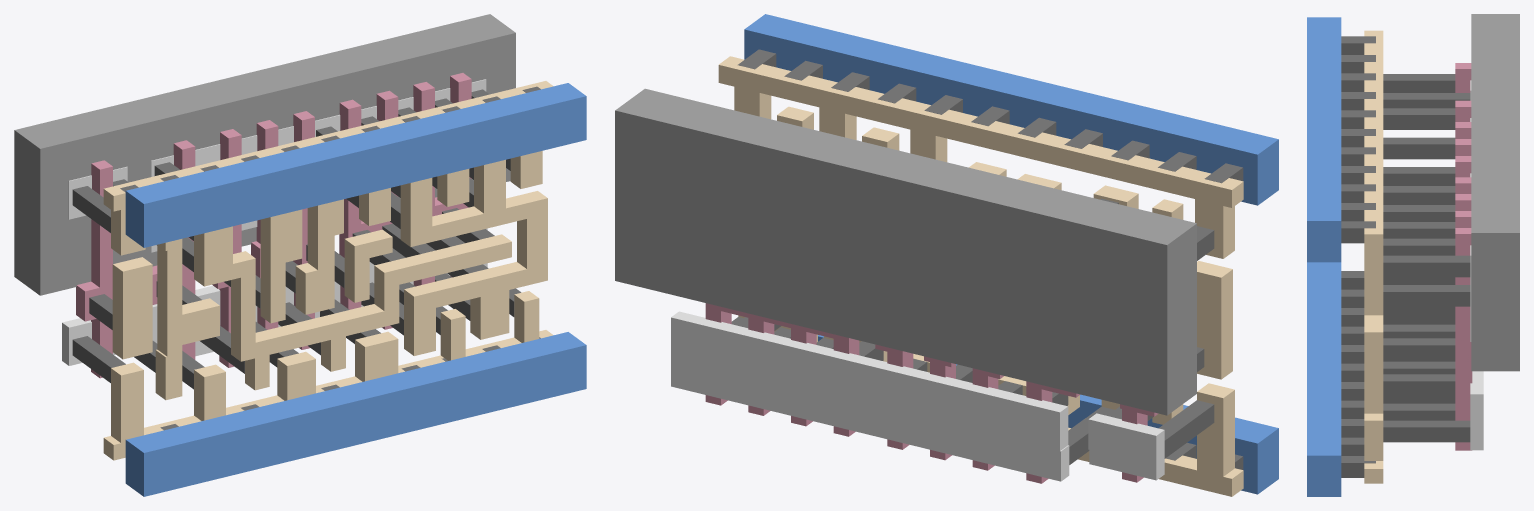
Rendered from sky130_fd_sc_hd__or4b_4.gds.gltf.
3 renders of one model, left to right at view 1: azimuth 30°, elevation 25°; view 2: azimuth 150°, elevation 25°; view 3: azimuth 270°, elevation 25°, orthographic. The views are drawn at different scales.
Parts seen in each view (by area): view 1: sky130_fd_sc_hd__or4b_4_li1, sky130_fd_sc_hd__or4b_4_met1, sky130_fd_sc_hd__or4b_4_nwell, sky130_fd_sc_hd__or4b_4_poly, sky130_fd_sc_hd__or4b_4_licon, sky130_fd_sc_hd__or4b_4_diff, sky130_fd_sc_hd__or4b_4_mcon; view 2: sky130_fd_sc_hd__or4b_4_nwell, sky130_fd_sc_hd__or4b_4_diff, sky130_fd_sc_hd__or4b_4_li1, sky130_fd_sc_hd__or4b_4_met1, sky130_fd_sc_hd__or4b_4_mcon, sky130_fd_sc_hd__or4b_4_poly, sky130_fd_sc_hd__or4b_4_licon; view 3: sky130_fd_sc_hd__or4b_4_licon, sky130_fd_sc_hd__or4b_4_nwell, sky130_fd_sc_hd__or4b_4_met1, sky130_fd_sc_hd__or4b_4_mcon, sky130_fd_sc_hd__or4b_4_li1, sky130_fd_sc_hd__or4b_4_poly, sky130_fd_sc_hd__or4b_4_diff.
Part boxes in pixels (left/top/right/bottom): sky130_fd_sc_hd__or4b_4_li1: left=103, top=81, right=553, bottom=460; sky130_fd_sc_hd__or4b_4_met1: left=125, top=83, right=586, bottom=496; sky130_fd_sc_hd__or4b_4_nwell: left=14, top=14, right=515, bottom=295; sky130_fd_sc_hd__or4b_4_poly: left=76, top=73, right=471, bottom=378; sky130_fd_sc_hd__or4b_4_licon: left=72, top=89, right=521, bottom=389; sky130_fd_sc_hd__or4b_4_diff: left=62, top=79, right=487, bottom=365; sky130_fd_sc_hd__or4b_4_mcon: left=120, top=86, right=540, bottom=430; sky130_fd_sc_hd__or4b_4_nwell: left=615, top=88, right=1196, bottom=415; sky130_fd_sc_hd__or4b_4_diff: left=671, top=311, right=1164, bottom=481; sky130_fd_sc_hd__or4b_4_li1: left=718, top=56, right=1243, bottom=496; sky130_fd_sc_hd__or4b_4_met1: left=744, top=14, right=1278, bottom=494; sky130_fd_sc_hd__or4b_4_mcon: left=738, top=49, right=1243, bottom=469; sky130_fd_sc_hd__or4b_4_poly: left=705, top=303, right=1158, bottom=483; sky130_fd_sc_hd__or4b_4_licon: left=731, top=198, right=1214, bottom=464; sky130_fd_sc_hd__or4b_4_licon: left=1383, top=74, right=1470, bottom=442; sky130_fd_sc_hd__or4b_4_nwell: left=1471, top=14, right=1519, bottom=371; sky130_fd_sc_hd__or4b_4_met1: left=1307, top=17, right=1341, bottom=496; sky130_fd_sc_hd__or4b_4_mcon: left=1341, top=36, right=1375, bottom=477; sky130_fd_sc_hd__or4b_4_li1: left=1364, top=30, right=1383, bottom=483; sky130_fd_sc_hd__or4b_4_poly: left=1455, top=63, right=1472, bottom=450; sky130_fd_sc_hd__or4b_4_diff: left=1470, top=80, right=1483, bottom=450.
Bounding box in the file's own units: 5.44 × 3.2 × 2.24.
